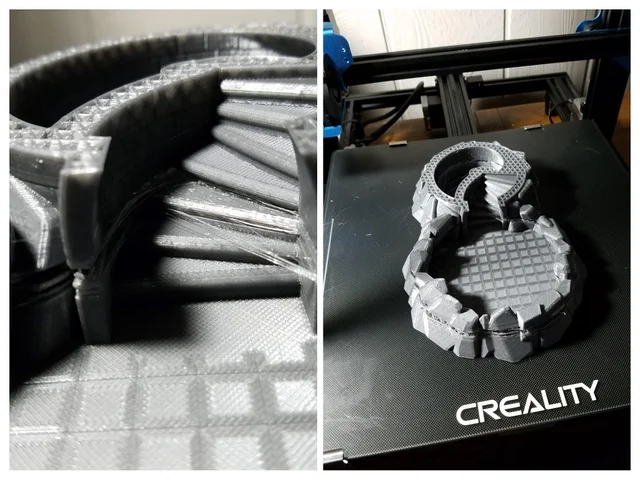Layer Shifting: (87, 156, 323, 303)
